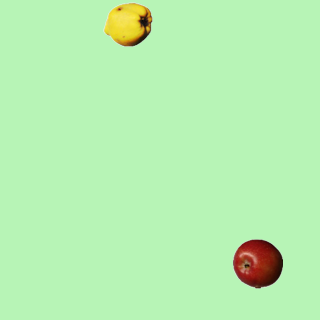Apple Braeburn: (232, 238, 282, 288)
Quince: (102, 0, 152, 49)
